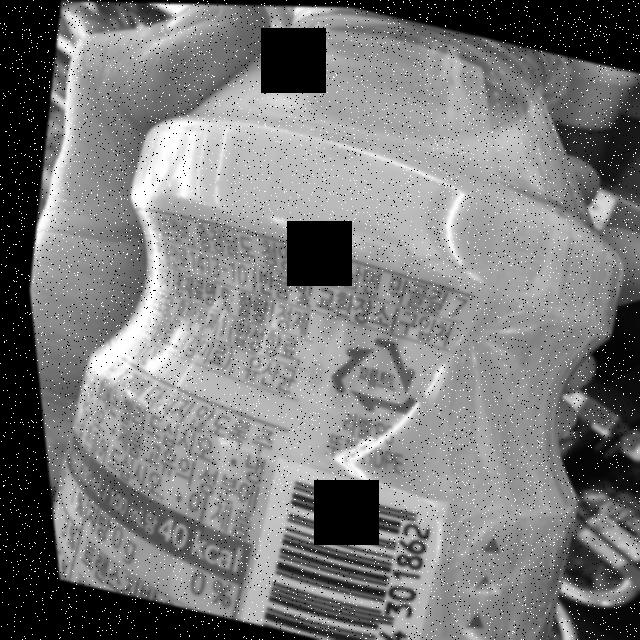PET: (308, 322, 427, 424)
